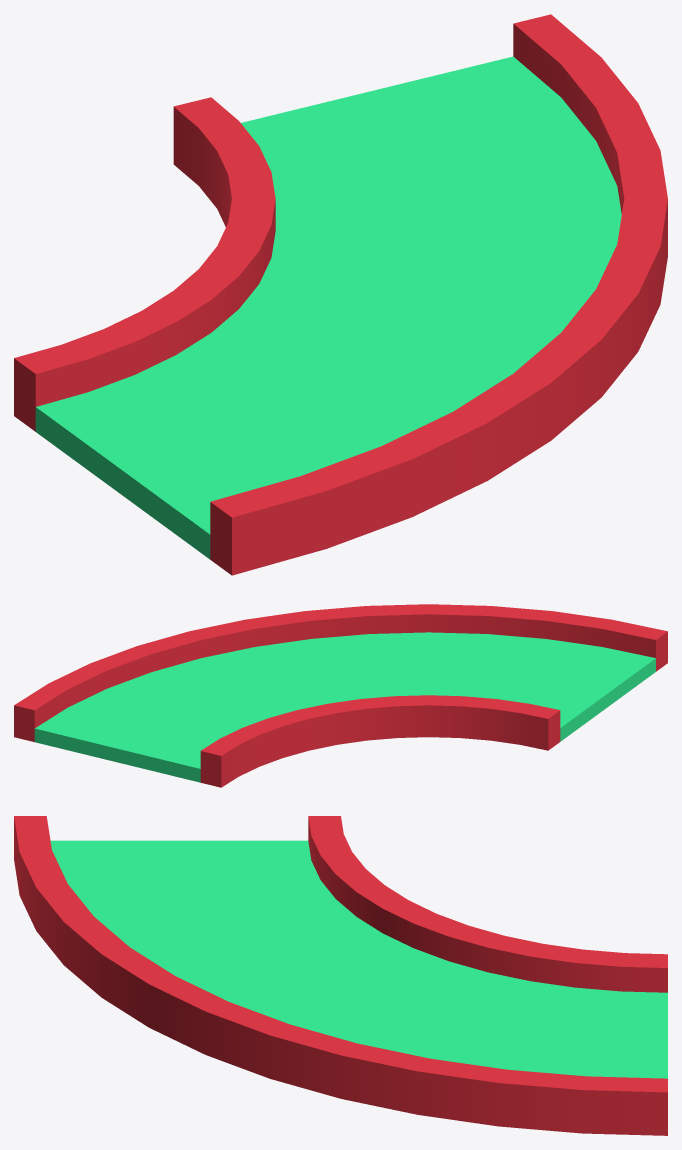
Rendered from roundLargeCorner.fbx.
3 renders of one model, top to bottom at view 1: azimuth 30°, elevation 25°; view 2: azimuth 150°, elevation 25°; view 3: azimuth 270°, elevation 25°, orthographic. The views are drawn at different scales.
Parts seen in each view (by area): view 1: roundLargeCorner; view 2: roundLargeCorner; view 3: roundLargeCorner.
Part boxes in pixels (<box>): roundLargeCorner: <box>14,14,667,575</box>; roundLargeCorner: <box>14,604,667,787</box>; roundLargeCorner: <box>14,816,667,1135</box>.
Size of the model in its own units: 20 by 1.47 by 20.
